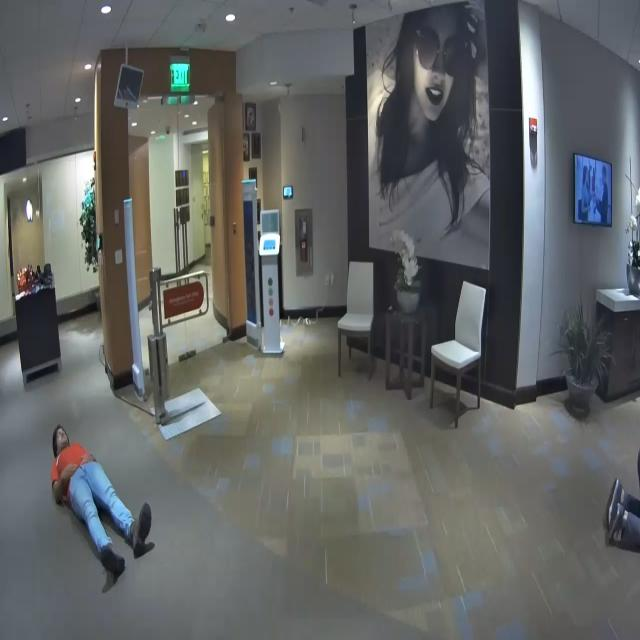fall: (37, 401, 179, 608)
